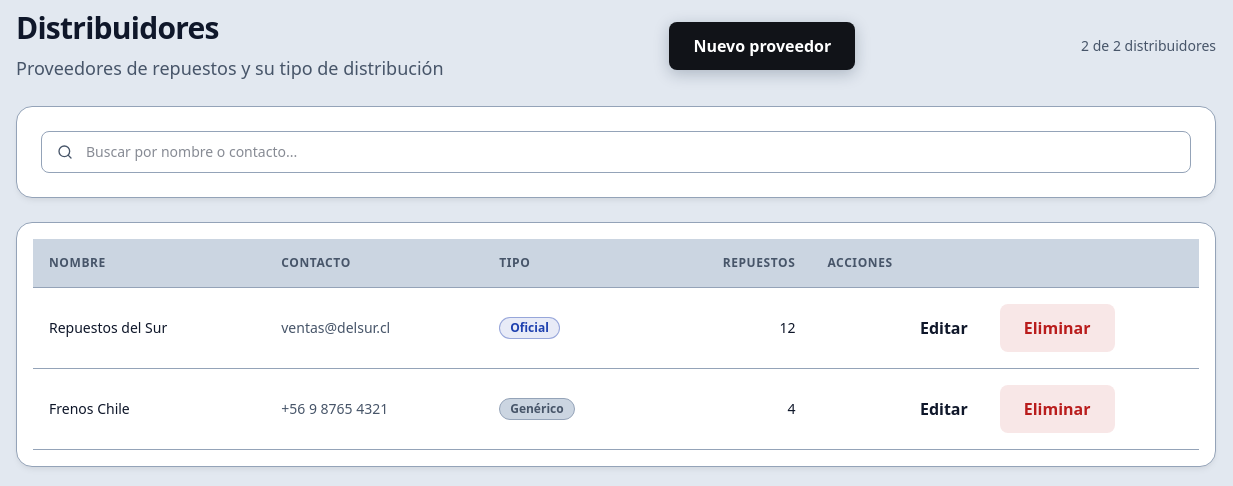
Test: AdminDistributorsPage: listado y estados › filtra por nombre y por contacto
Check: the text "Repuestos del Sur" is shown, box [33,288,265,368]
Type "8765" into the search field named "Buscar distribuidores" at (616, 152), box [41,131,1191,173]
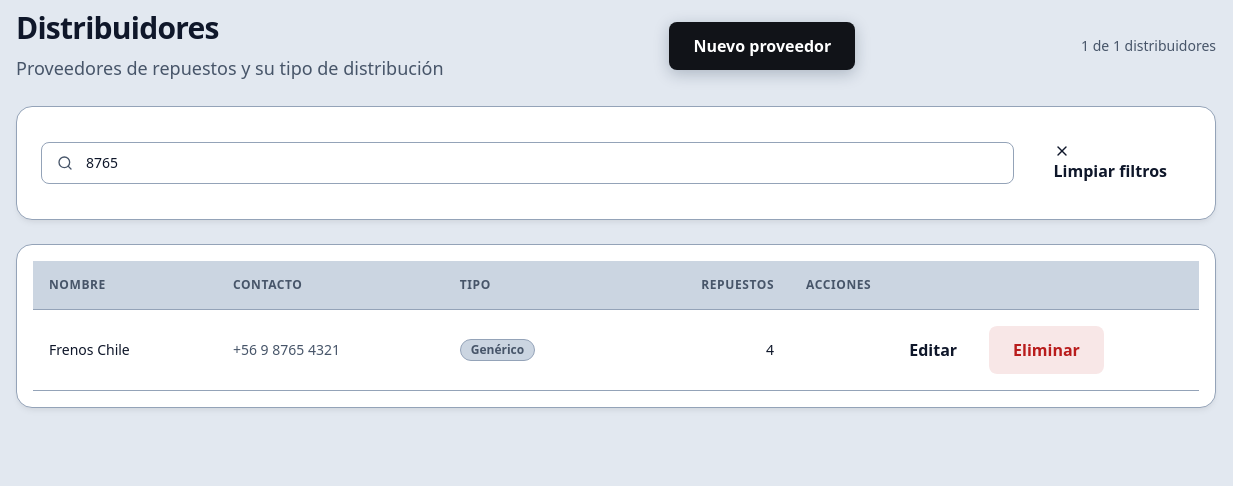
Check: the text "Frenos Chile" is shown, box [33,310,217,390]
Check: the text "Repuestos del Sur" is gone
Check: the text "1 de 1 distribuidores" is shown, box [1081,36,1216,56]
